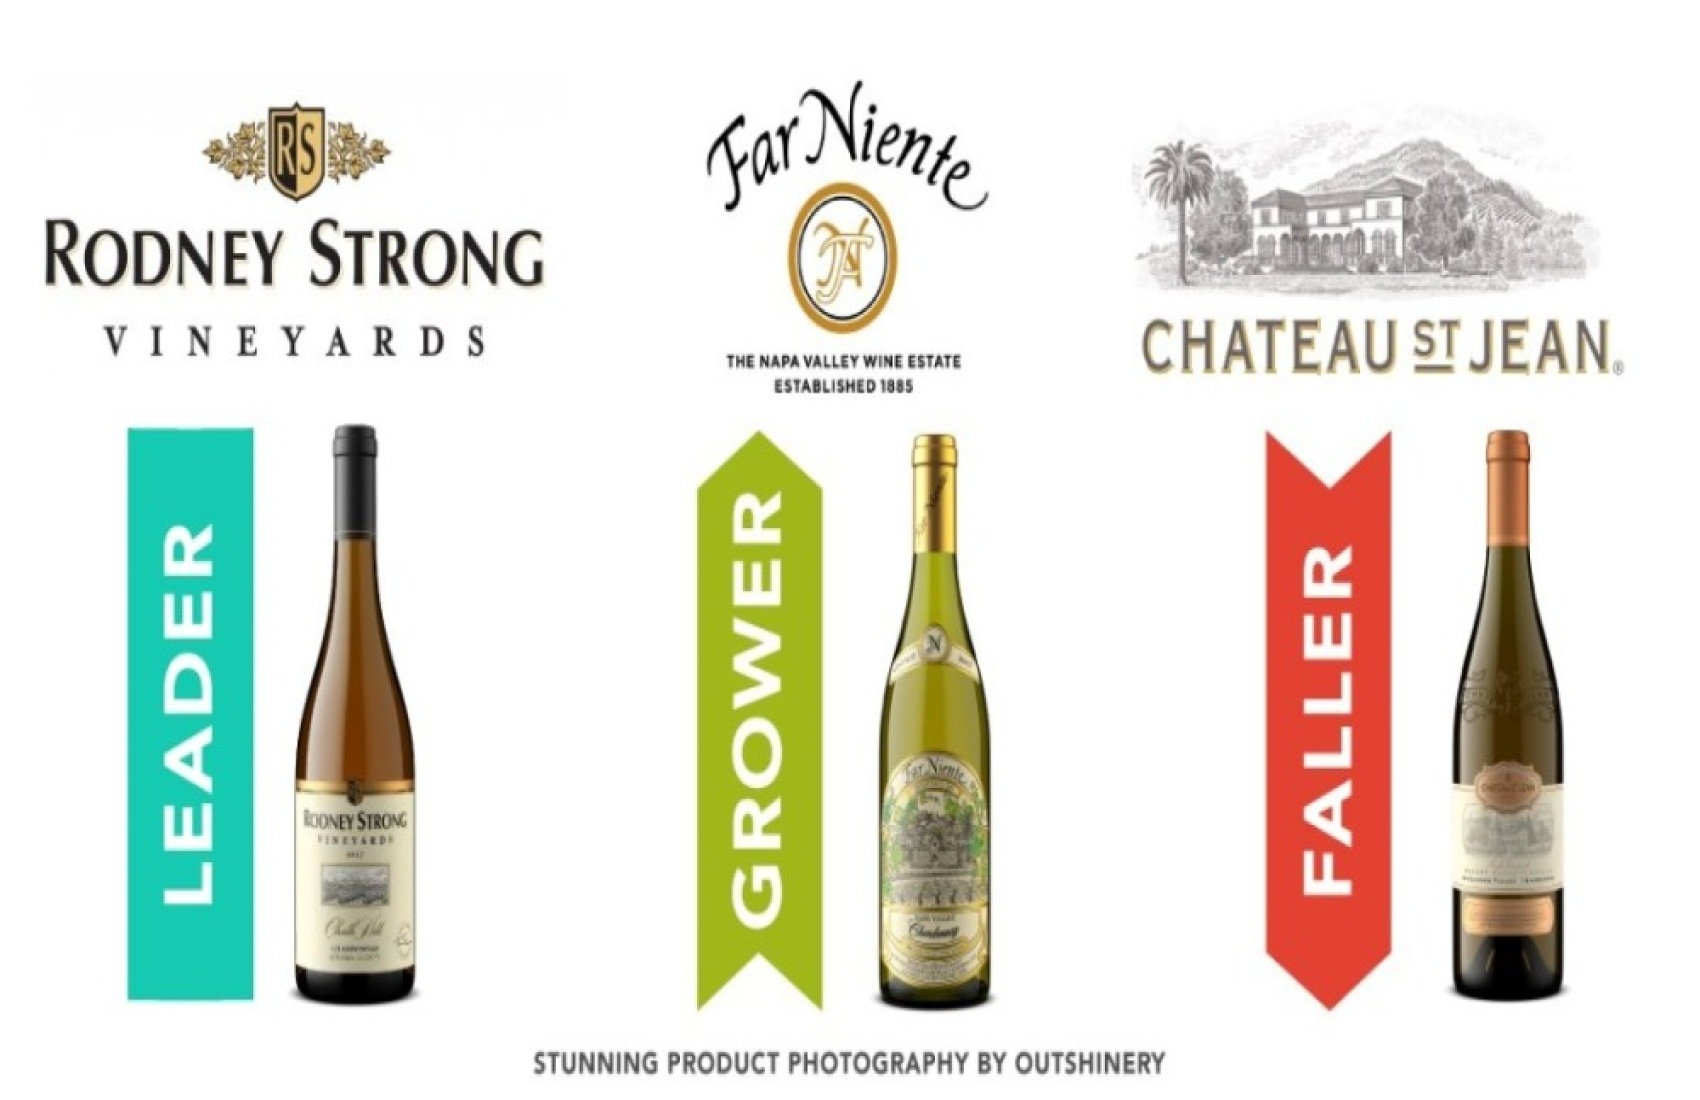wine: (1457, 429, 1579, 997), (296, 434, 418, 1001), (881, 431, 1002, 998)
